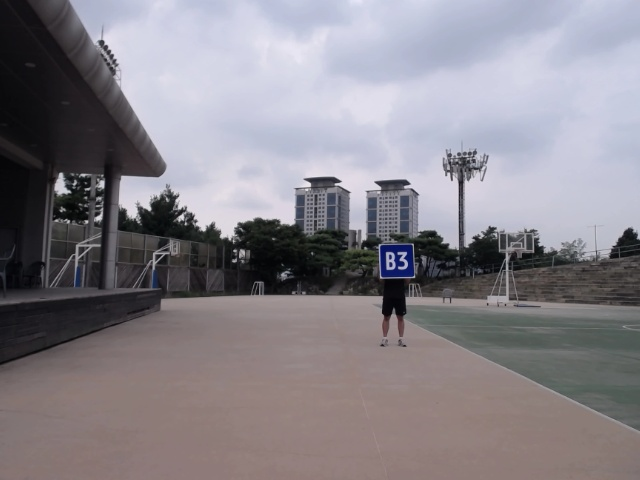delivery_b3: (378, 243, 417, 281)
